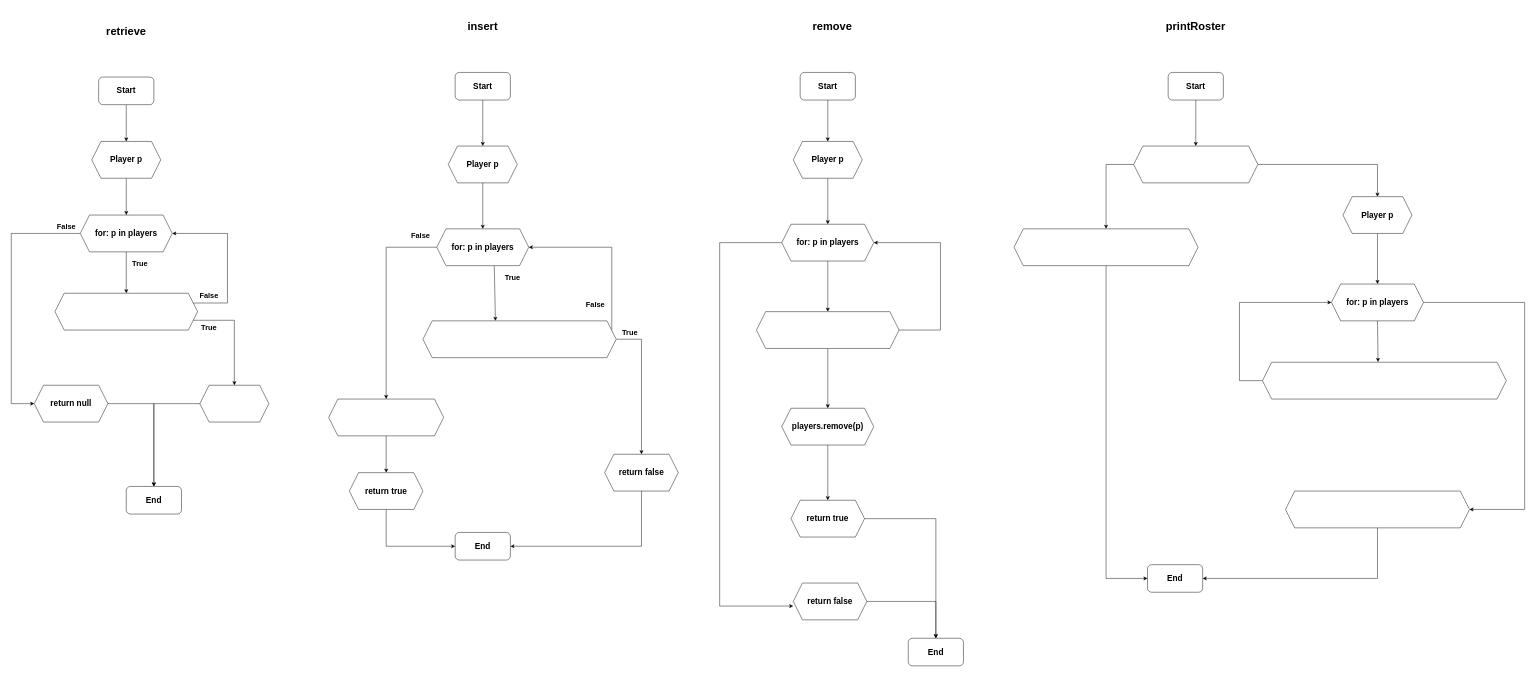
Image size: 1536x674. Some labels were removed from this diagram. Each missing label, with the centre of its shape:
if: p.getNumber() == i: [827,329]
if: p.getNumber() == num: [126,311]
if: p.getNumber() == player.getNumber(): [519,339]
if: players.isEmpty(): [1195,164]
player.add(number): [386,417]
print: "Name: player's name, Number: player's Number": [1384,380]
print: "That's everyone on the team!": [1377,509]
print: "There is no one in the roster.": [1106,247]
return p: [234,403]
